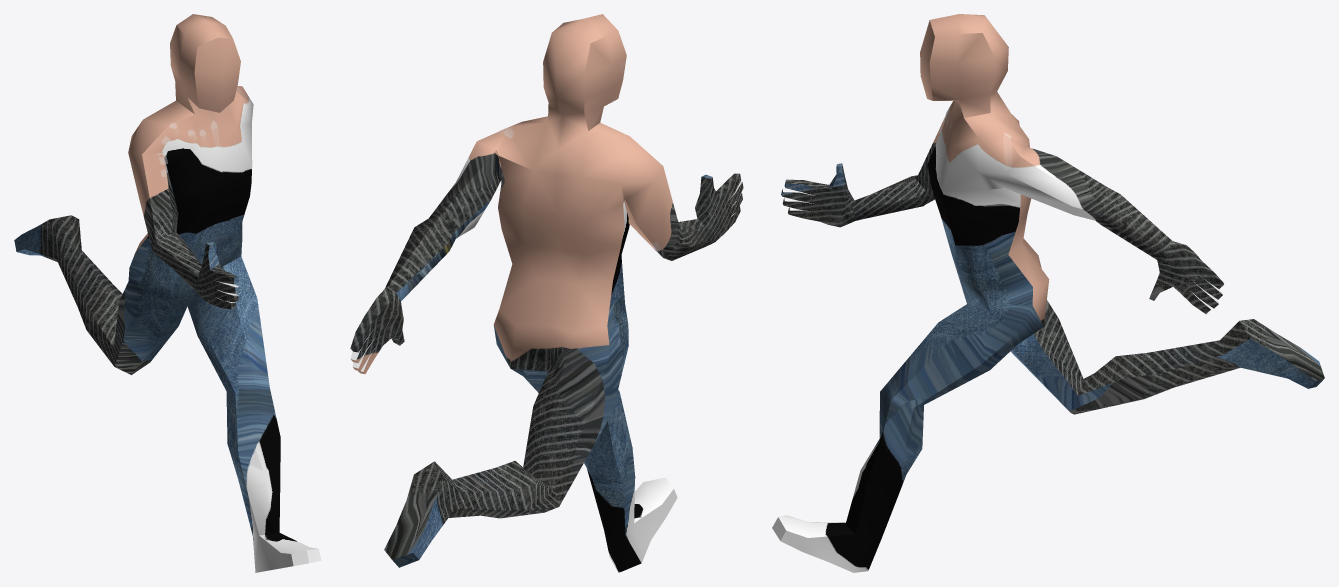
File: human28.obj
3 views of the same model, side by side, from view 1: azimuth 30°, elevation 25°; view 2: azimuth 150°, elevation 25°; view 3: azimuth 270°, elevation 25° (orthographic). The views are drawn at different scales.
Visible parts, largest first — view 1: HumanMale; view 2: HumanMale; view 3: HumanMale.
Part boxes in pixels (x1,y1,x2,y2): HumanMale: (14,14,321,572); HumanMale: (350,14,743,572); HumanMale: (772,14,1324,572).
Bounding box in the file's own units: 0.383 × 1.23 × 1.12.
1 material, 1 textured.
